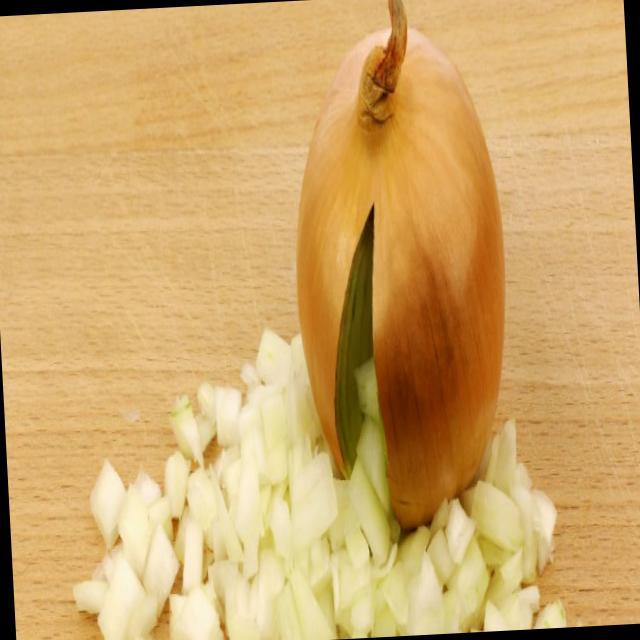ONIONS: (285, 14, 522, 514)
